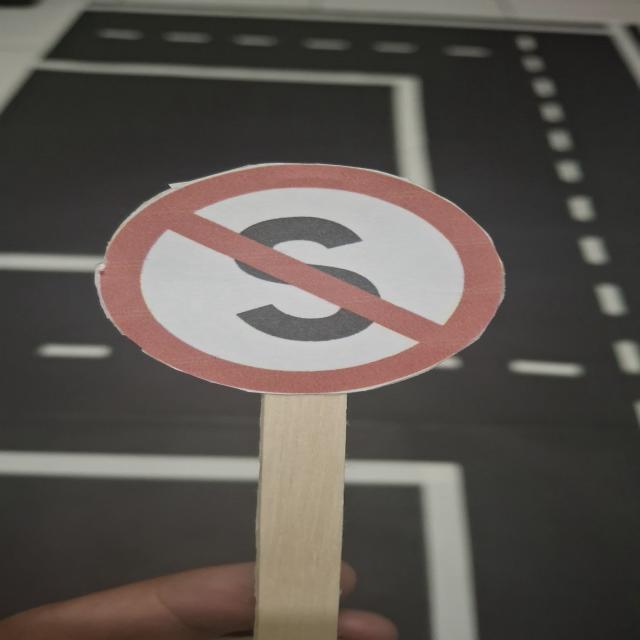Rambu Berhenti: (96, 161, 508, 396)
